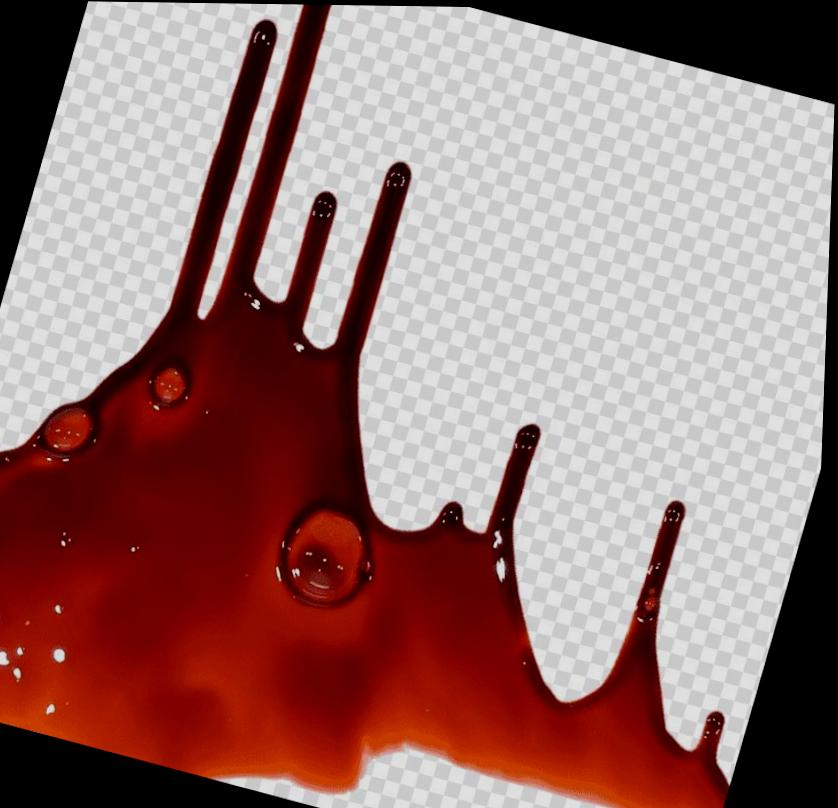Fire: (0, 4, 735, 808)
